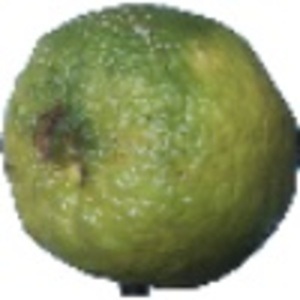limão: (1, 2, 300, 298)
